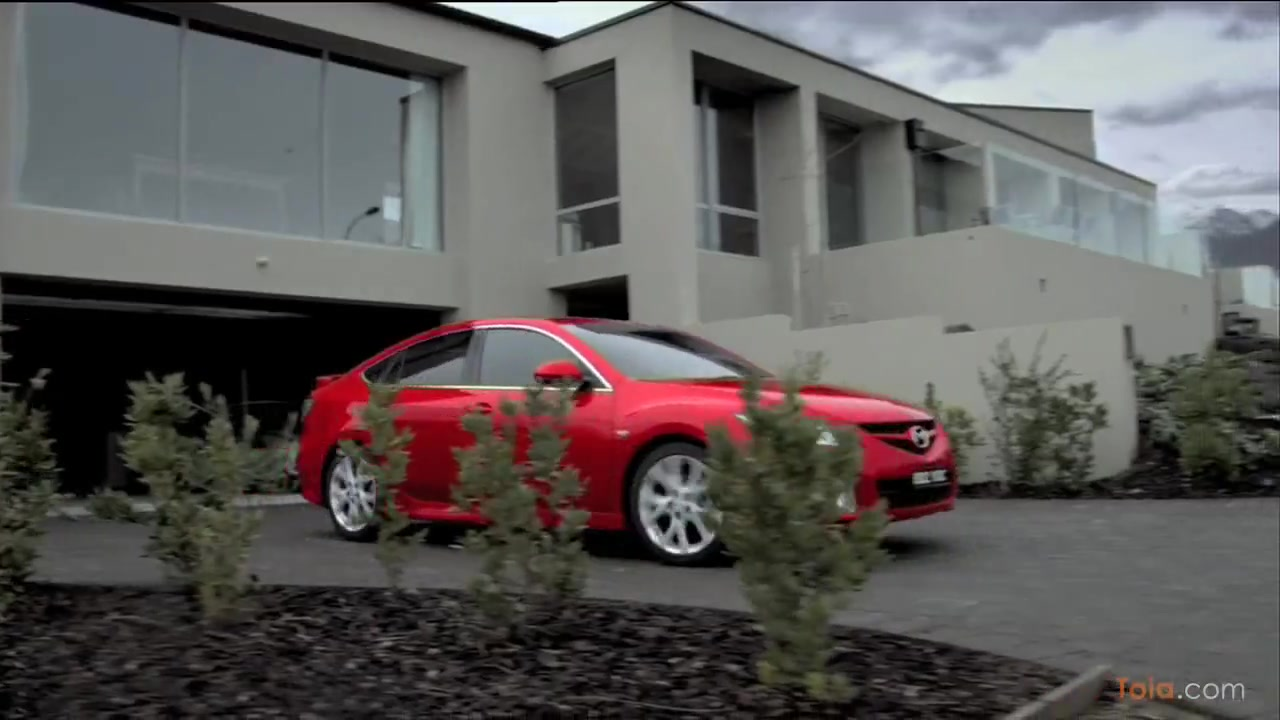car: (295, 314, 968, 570)
